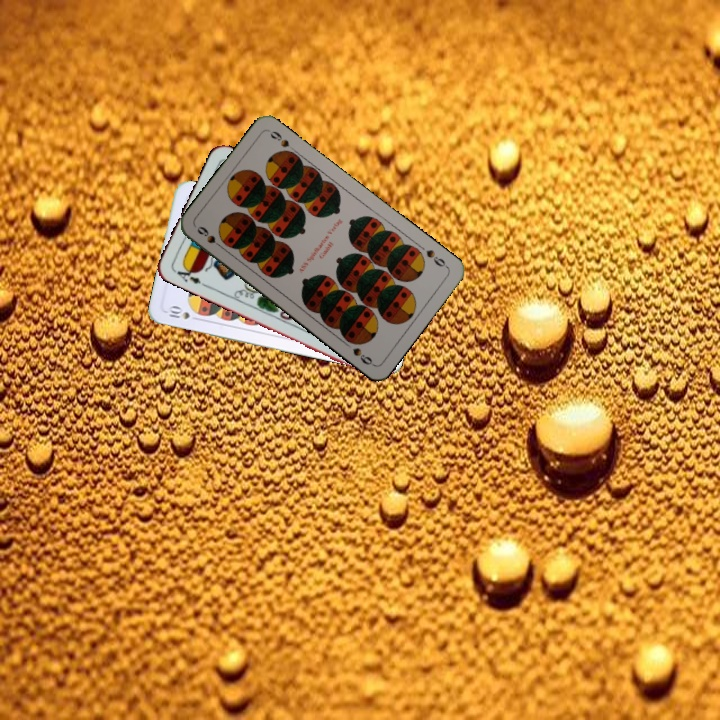EA: (170, 262, 203, 287)
S10: (162, 303, 202, 323)
S9: (193, 222, 227, 252), (422, 245, 451, 271)
